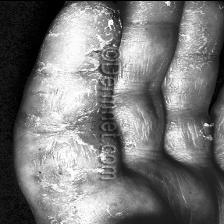Non-Cancerous Skin Condition: (37, 21, 106, 224), (188, 2, 224, 66), (130, 0, 183, 13), (194, 116, 216, 144)
